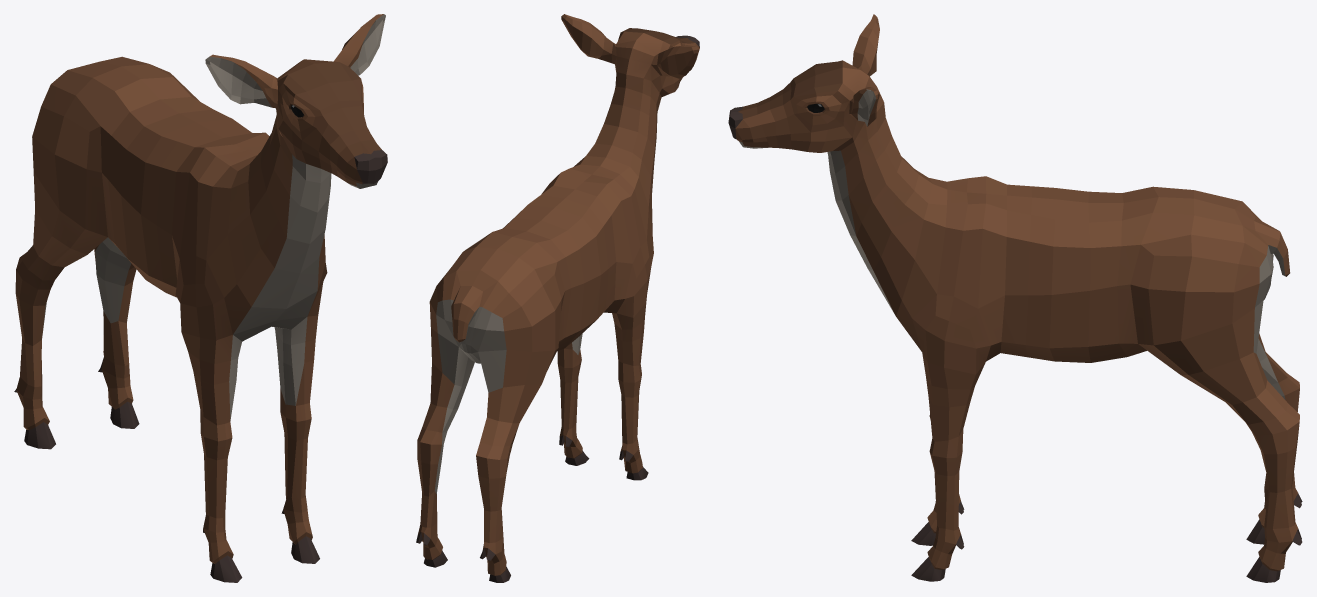
File: ani_deer.glb
3 renders of one model, left to right at view 1: azimuth 30°, elevation 25°; view 2: azimuth 150°, elevation 25°; view 3: azimuth 270°, elevation 25°, orthographic. The views are drawn at different scales.
Visible parts, largest first — view 1: ani_deer; view 2: ani_deer; view 3: ani_deer.
Part boxes in pixels (x1,y1,x2,y2): ani_deer: [14, 14, 387, 582]; ani_deer: [416, 14, 699, 582]; ani_deer: [728, 14, 1302, 582].
Size of the model in its own units: 0.6309 by 1.85 by 1.9.
